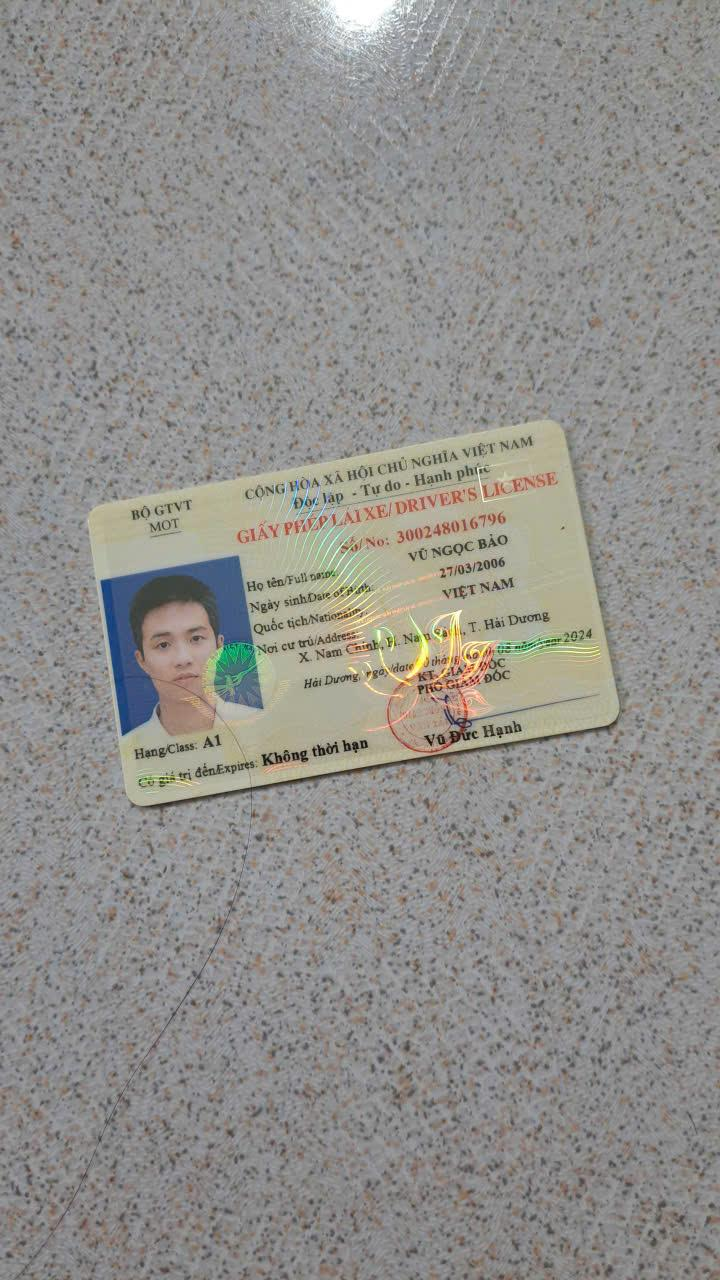gplx: (84, 413, 632, 823)
